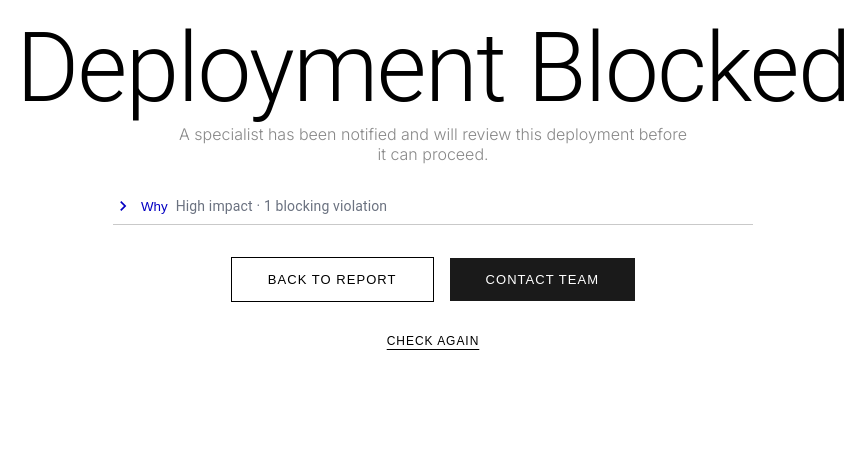
Scenario: PrApprovalView › blocked state lists both reasons when the plan is high impact and compliance failed
Expected: the heading "Deployment Blocked" is shown, top-left (16, 12), bottom-right (850, 124)
Click the button "Why High impact · 1 blocking violation". click: (281, 206)
box: top-left (113, 196), bottom-right (753, 225)
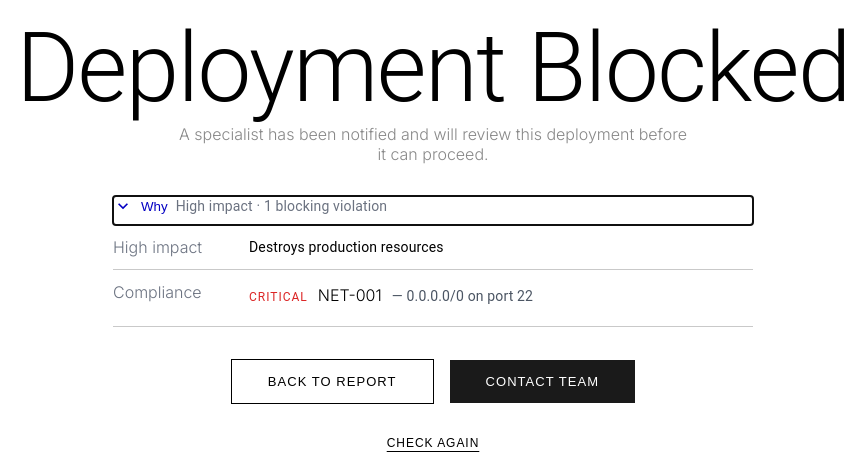
Now the text "Destroys production resources" is shown, box top-left (249, 239), bottom-right (444, 255)
Now the text "NET-001" is shown, box top-left (318, 285), bottom-right (382, 305)
